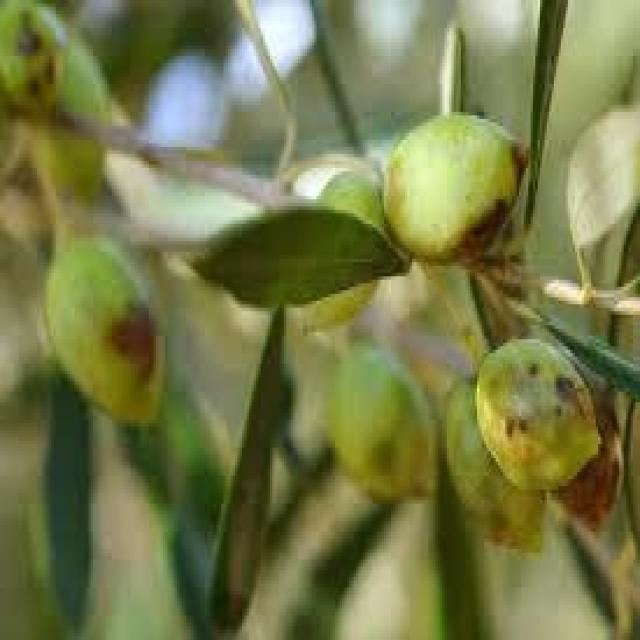Olive Fruit Fly: (384, 112, 526, 271), (47, 238, 163, 420), (477, 332, 603, 490)
